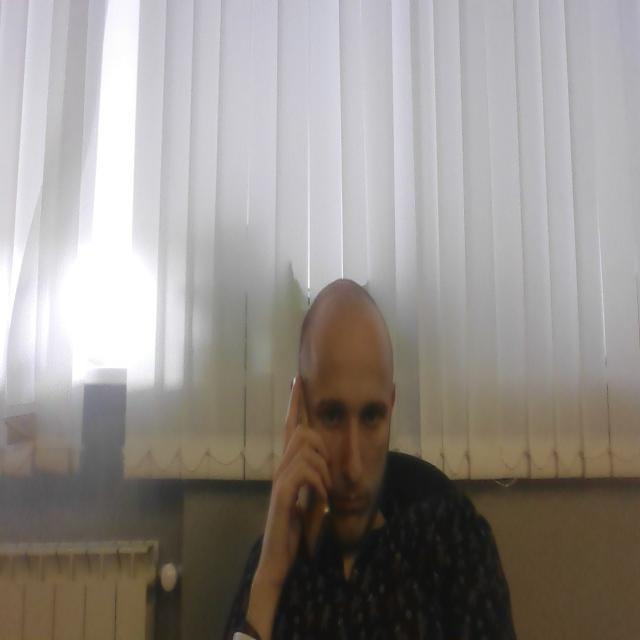phone: (282, 374, 328, 552)
